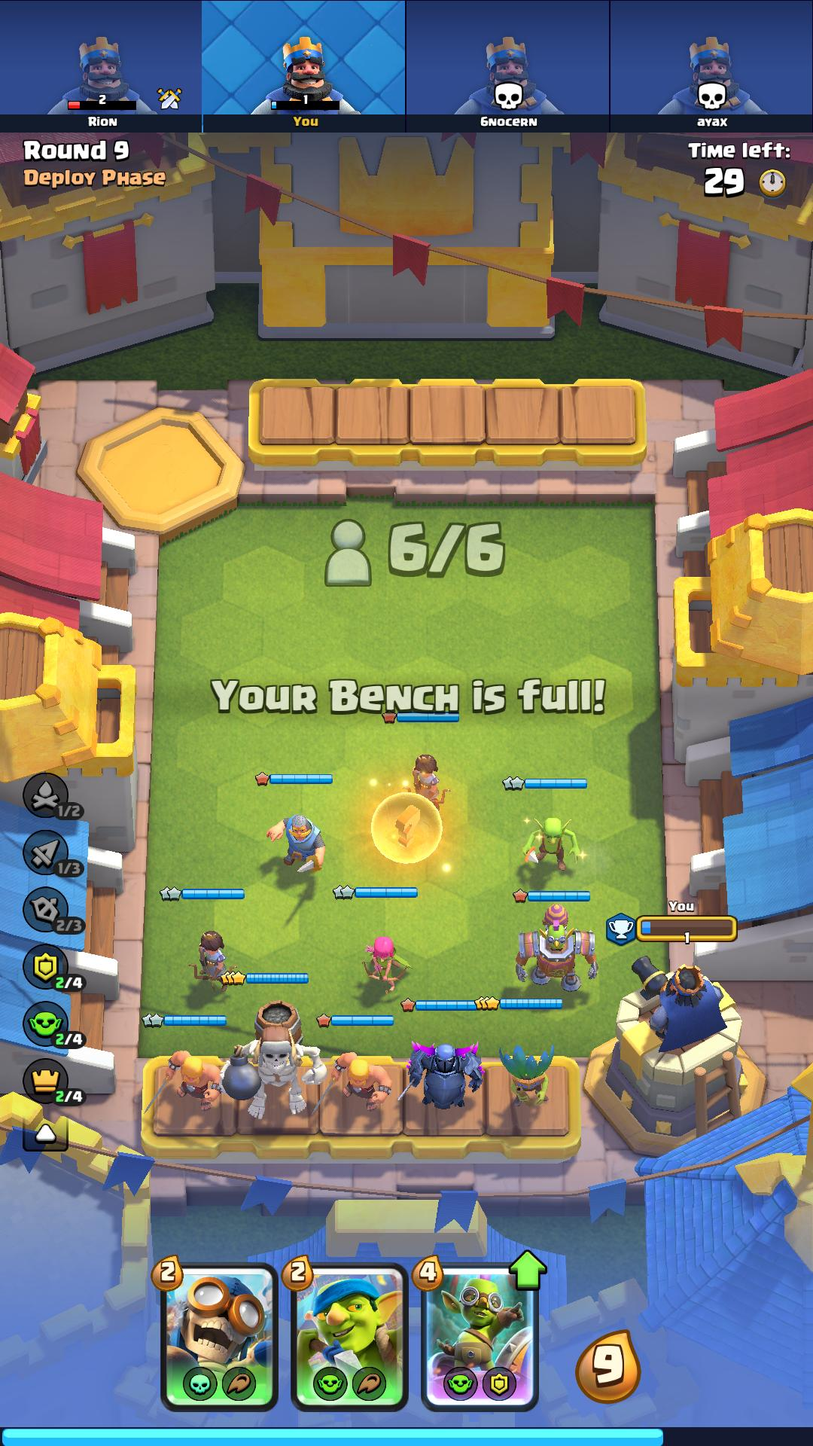archer: (350, 932, 414, 995)
barbarian: (150, 1045, 222, 1111), (327, 1045, 392, 1109)
dart: (492, 1030, 566, 1115)
giant: (220, 998, 326, 1123)
goblin: (513, 806, 584, 880)
hand-bomber: (163, 1267, 281, 1401)
hand-machine: (425, 1268, 531, 1406)
hand-spear: (292, 1264, 405, 1407)
knight: (255, 801, 338, 875)
machine: (504, 902, 607, 995)
orb: (368, 789, 446, 872)
pekka: (397, 1034, 490, 1116)
princess: (186, 922, 241, 990)
upgrade: (507, 1248, 549, 1288)
